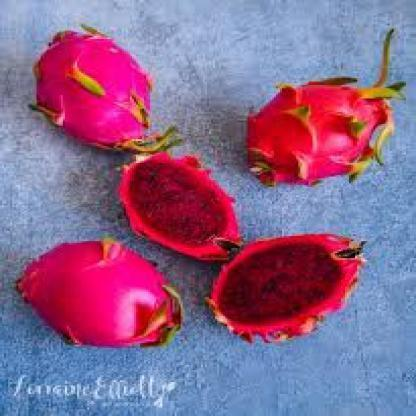dragon-fruit: (18, 240, 177, 348), (209, 233, 359, 338), (244, 82, 382, 184), (34, 32, 152, 149), (120, 152, 239, 259)
